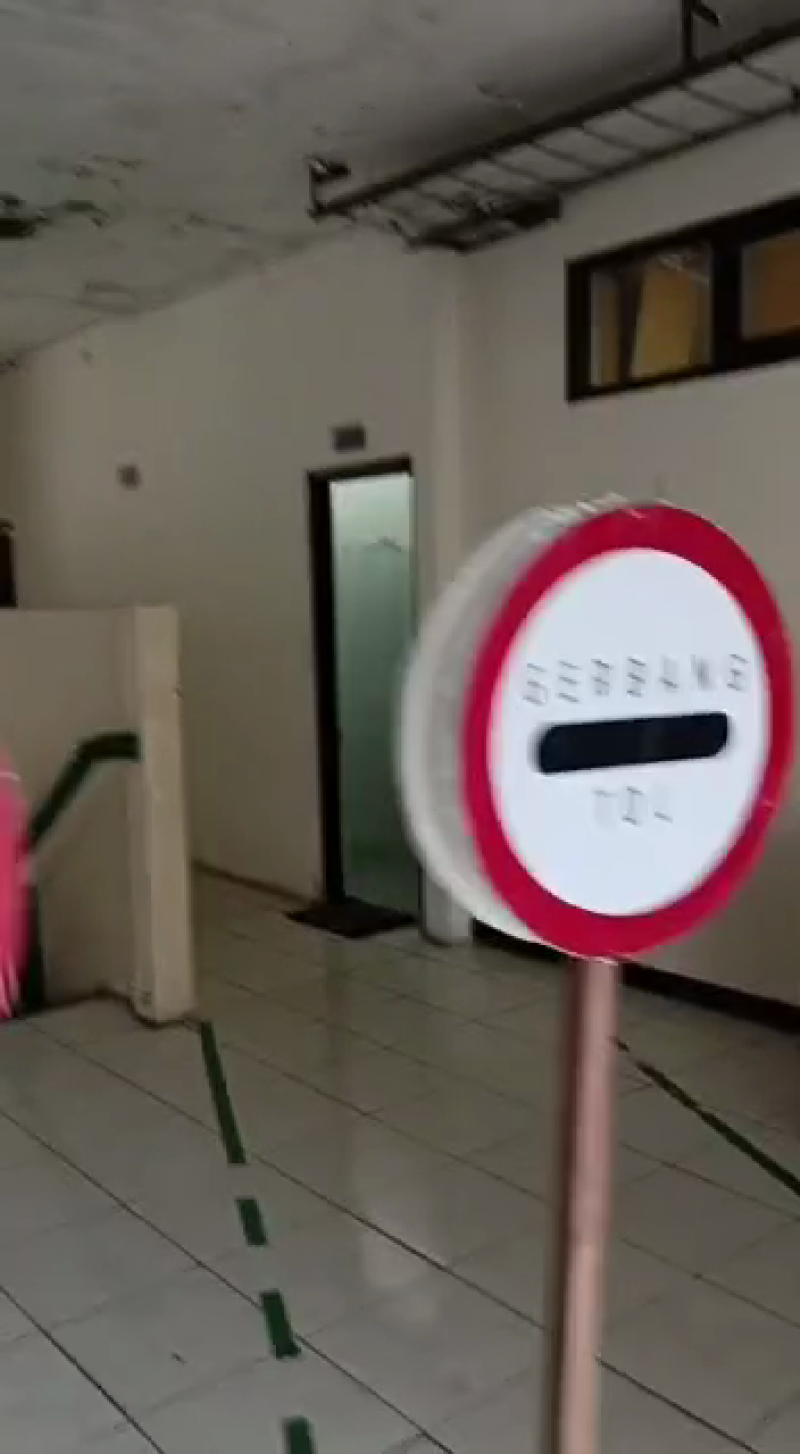gerbang tol: (446, 498, 800, 972)
